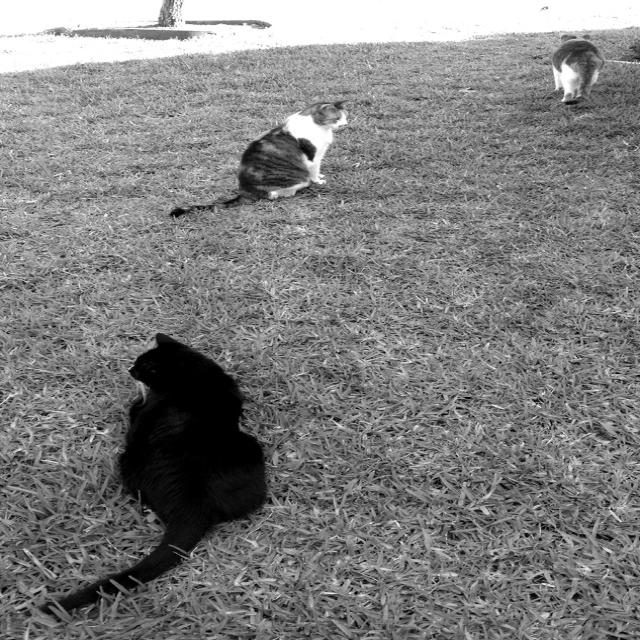Cat: (27, 332, 270, 618), (160, 100, 354, 219), (549, 37, 601, 105)
